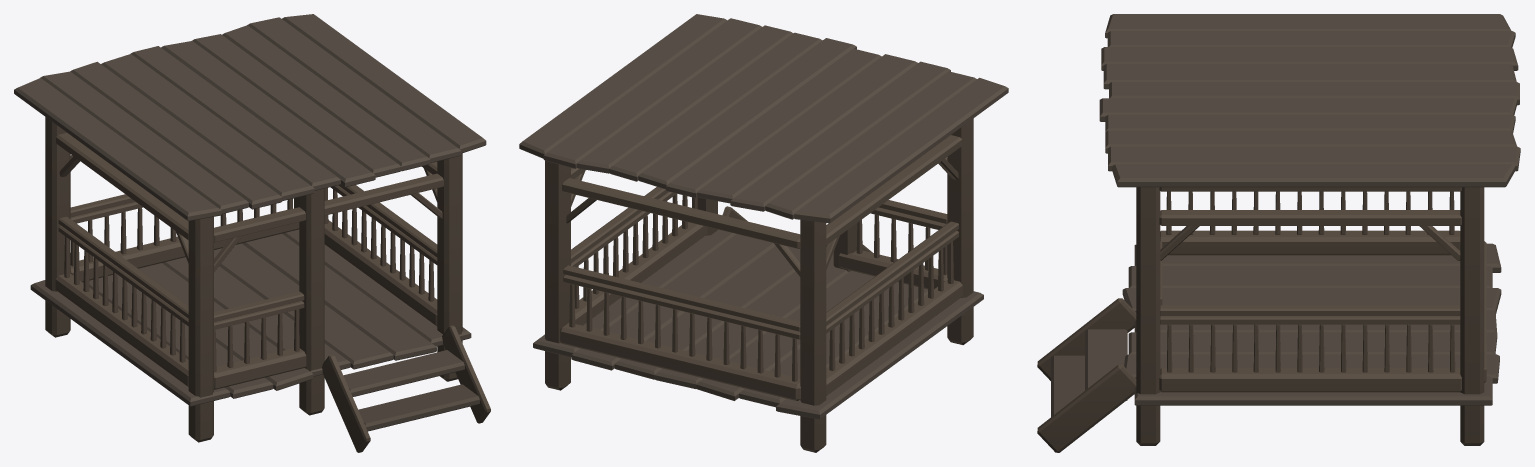
File: farm_shelter.glb
The picture shows the model from 3 angles, left to right: view 1: azimuth 30°, elevation 25°; view 2: azimuth 150°, elevation 25°; view 3: azimuth 270°, elevation 25°; orthographic projection. The views are drawn at different scales.
Visible parts, largest first — view 1: farm_shelter; view 2: farm_shelter; view 3: farm_shelter.
Boxes of the visible parts, x1=… form: farm_shelter: x1=14, y1=14, x2=490, y2=452; farm_shelter: x1=519, y1=14, x2=1008, y2=452; farm_shelter: x1=1037, y1=14, x2=1520, y2=452.
Size of the model in its own units: 3.58 by 2.91 by 4.38.
Materials: 1 (1 with a texture image).
